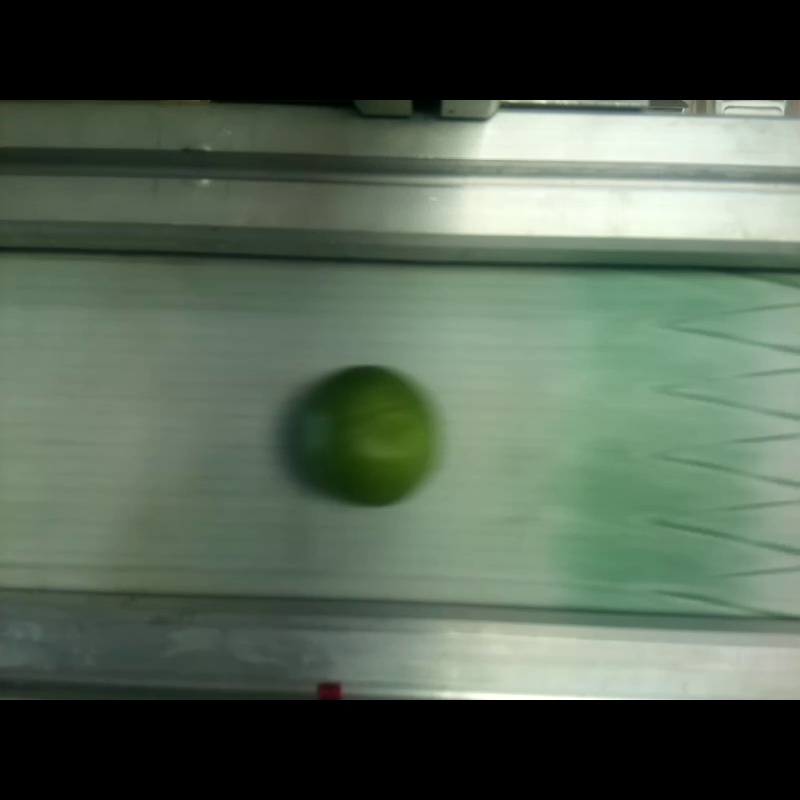lime: (289, 366, 433, 505)
